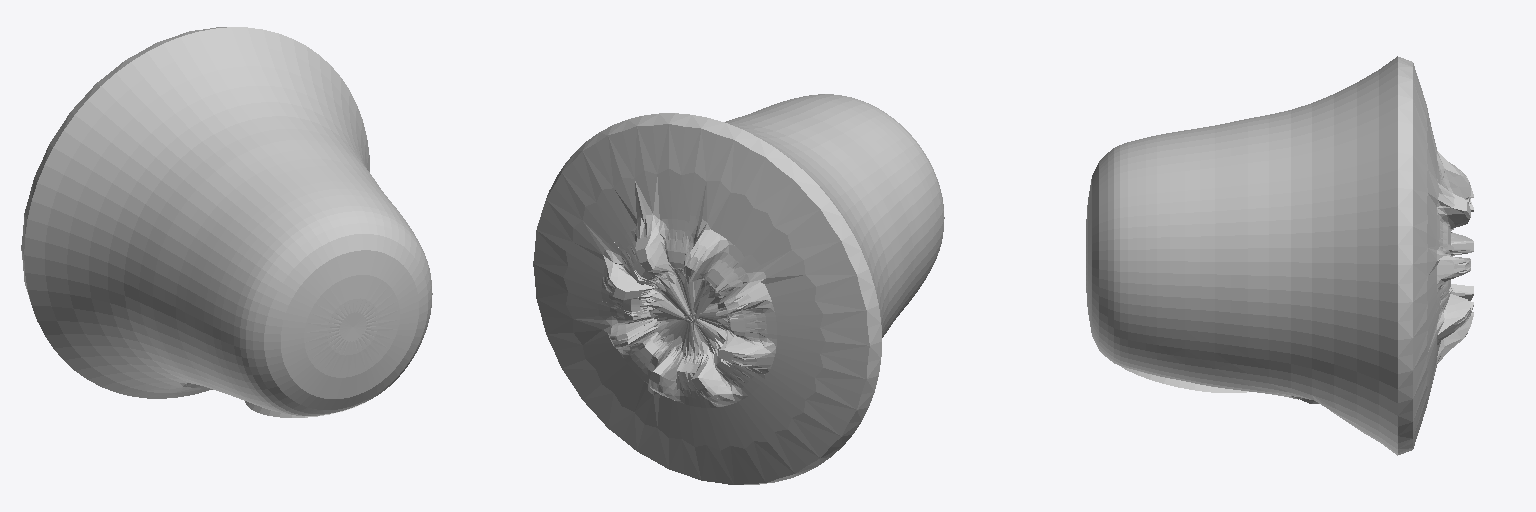
3 views of the same model, side by side, from view 1: azimuth 30°, elevation 25°; view 2: azimuth 150°, elevation 25°; view 3: azimuth 270°, elevation 25° (orthographic).
Visible parts, largest first — view 1: Sphere.002; view 2: Sphere.002; view 3: Sphere.002, Sphere_Sphere.001.
Part boxes in pixels (x1,y1,x2,y2): Sphere.002: (21, 27, 432, 415); Sphere.002: (533, 94, 944, 484); Sphere.002: (1086, 56, 1473, 455); Sphere_Sphere.001: (1121, 366, 1248, 392).
Size of the model in its own units: 15.23 by 15.23 by 14.82.